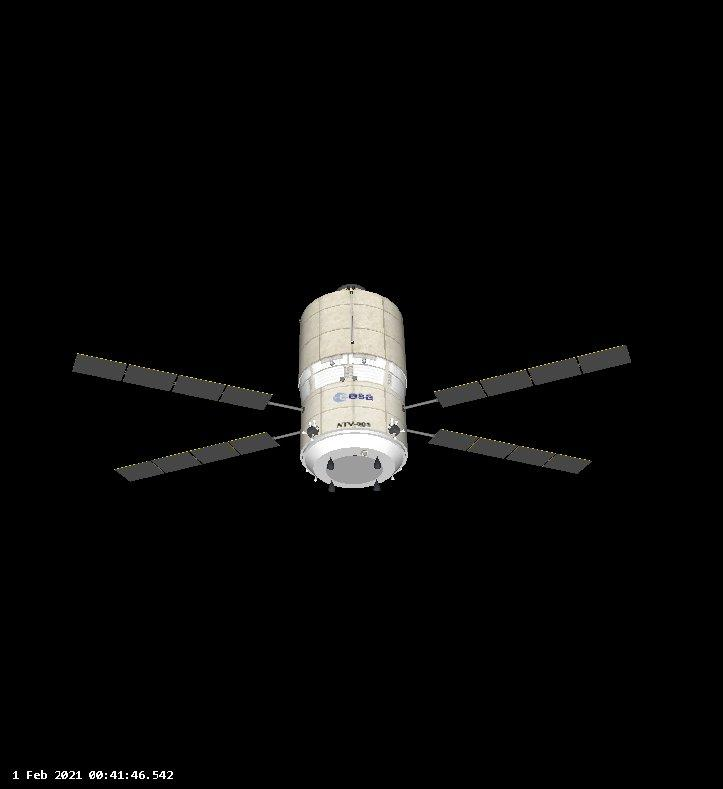body: (296, 278, 413, 502)
solar: (432, 342, 635, 410), (69, 349, 275, 412), (111, 429, 284, 484), (426, 426, 594, 477)
thruster: (385, 417, 407, 442), (300, 419, 322, 443), (372, 477, 383, 495), (326, 479, 338, 495), (372, 454, 383, 471), (325, 455, 336, 472)
